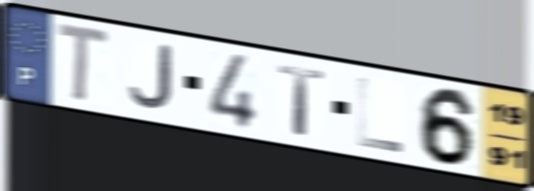4: (206, 51, 260, 132)
6: (416, 85, 481, 169)
J: (126, 43, 177, 113)
L: (355, 74, 406, 156)
T: (54, 19, 113, 106), (275, 62, 329, 139)
